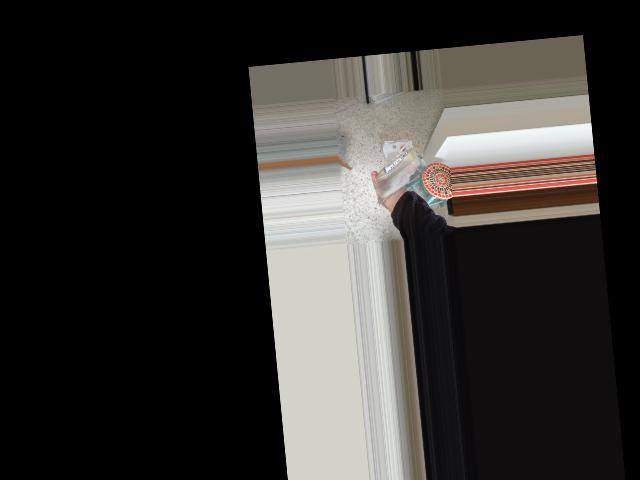cheese: (364, 130, 446, 209)
